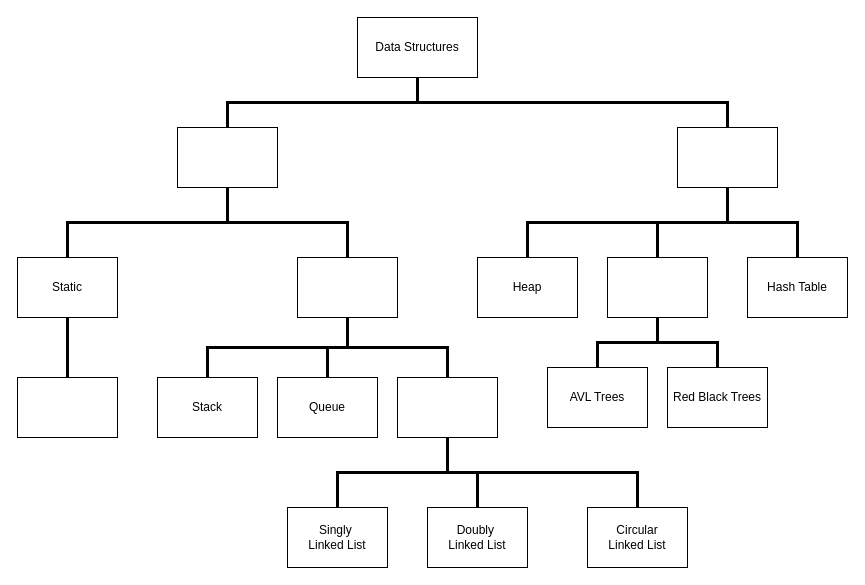
Image size: 865x585. Some labels were removed from this diagram. The shapes that lost their labels are listed below. From the top down, each one's box as (x1, y1, x2, y2) in pixels, then its label:
(176, 126, 278, 188): Linear
(676, 126, 778, 188): Non-Linear
(296, 256, 398, 318): Dynamic
(606, 256, 708, 318): Binary Search Tree (BST)
(16, 376, 118, 438): Array
(396, 376, 498, 438): Linked List
